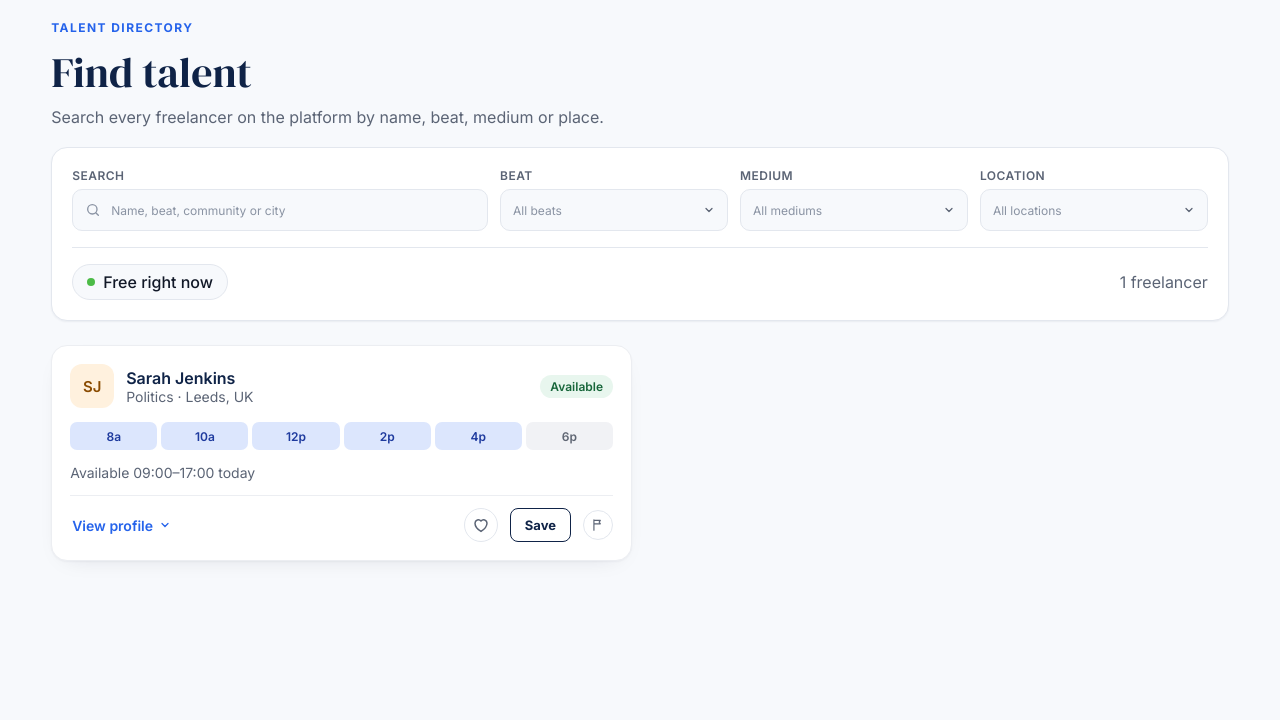
Test: TalentSearch › saves a freelancer and marks the card
Click the button with aria-label "Save Sarah Jenkins to your roster" at (540, 525), box [510,508,571,542]
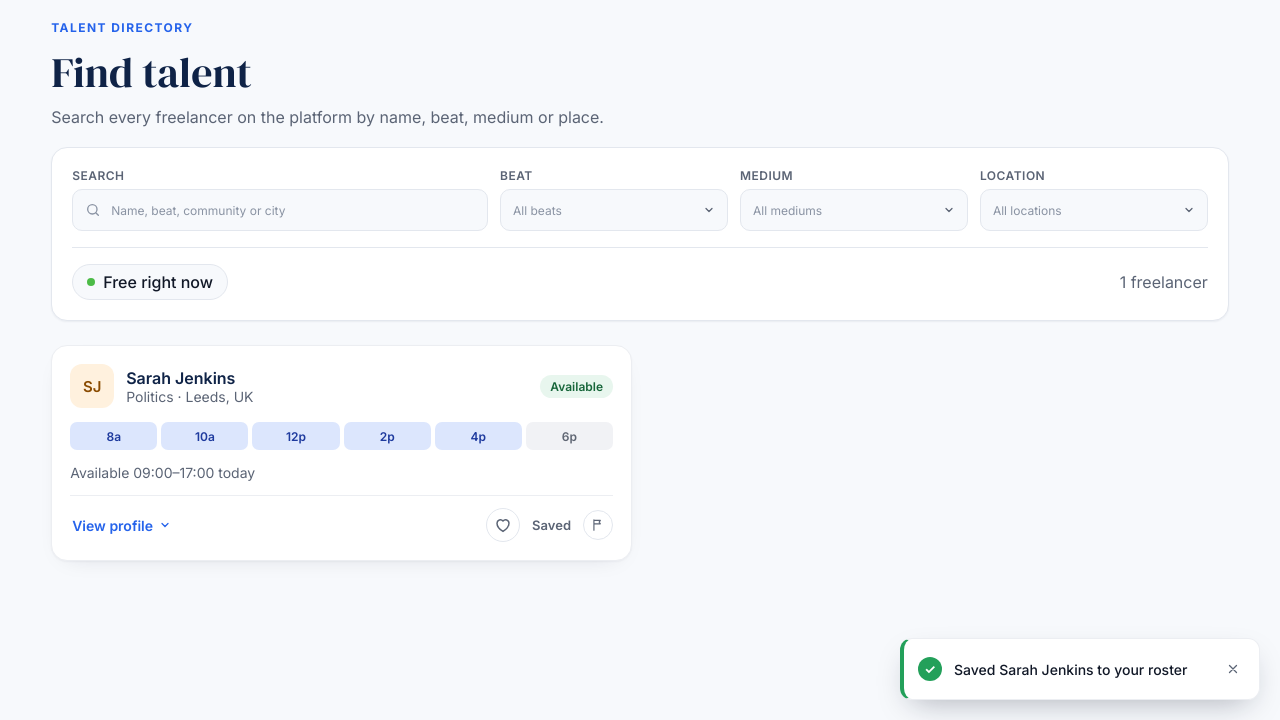
Check: the text "Saved" is shown, box [532,517,571,533]
Check: the text "Saved Sarah Jenkins to your roster" is shown, box [954,660,1203,678]
